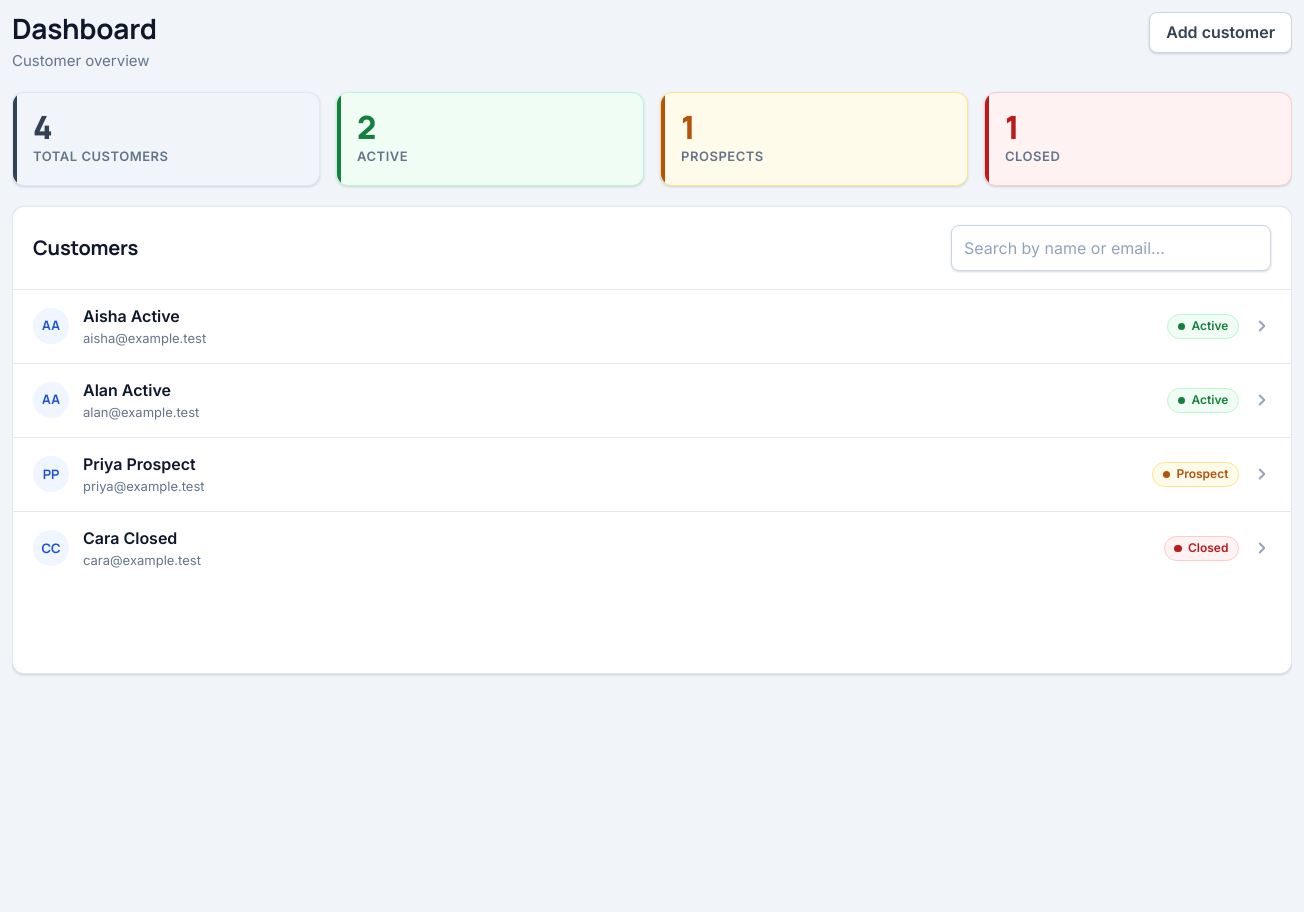
Dashboard › shows an empty state when no customers match the search
This screenshot has width=1304, height=912.
Expected: the list named "customer list" is shown, [13, 290, 1291, 585]
Type "zzz-nobody" into the search field named "search customers" at point(1111, 248), box [951, 225, 1271, 271]
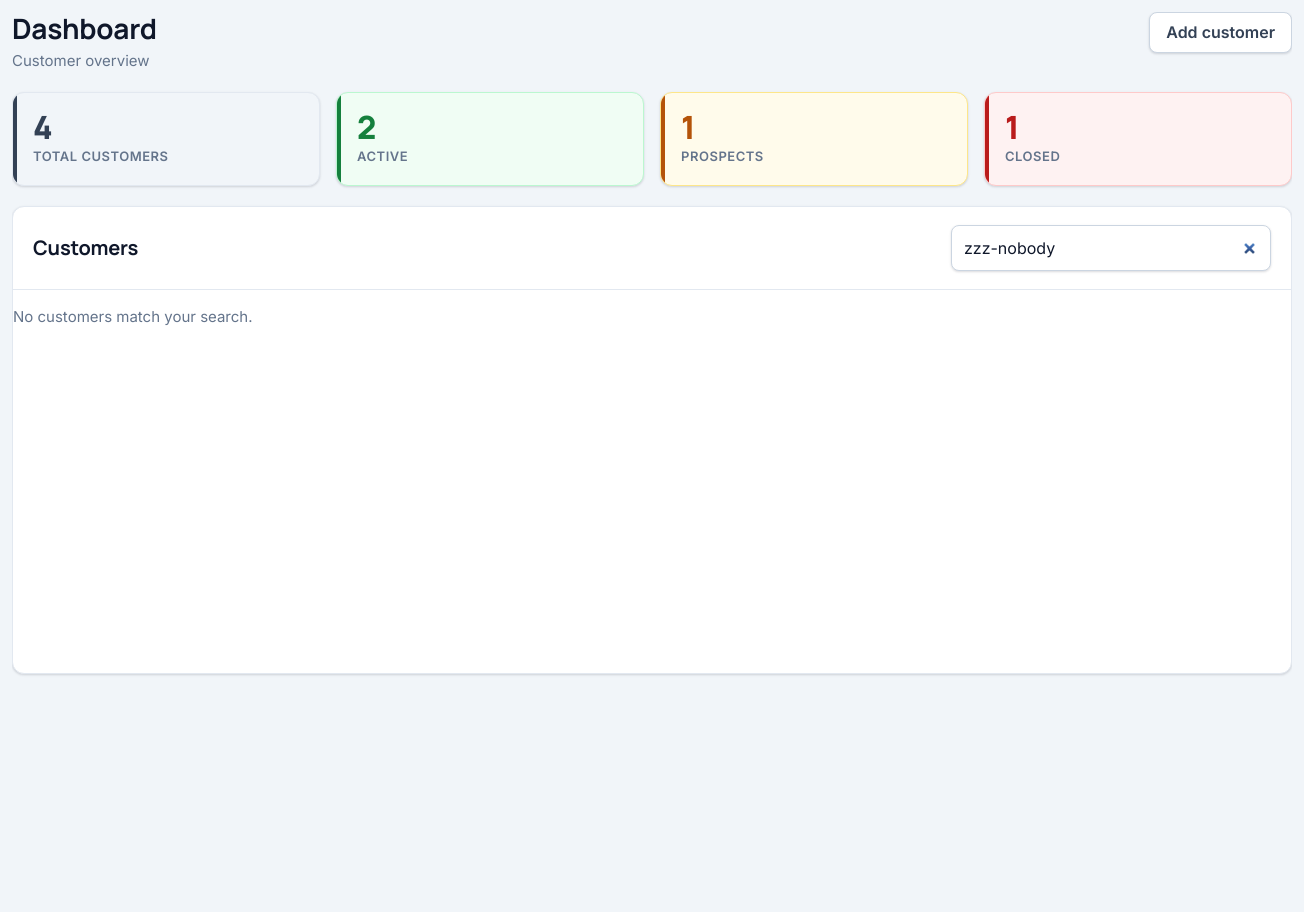
Expected: the text "No customers match your search." is shown, [13, 307, 252, 326]
